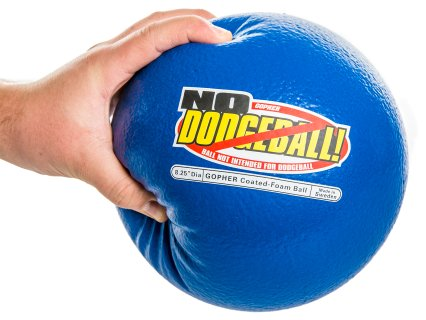blue ball: (111, 11, 410, 313)
